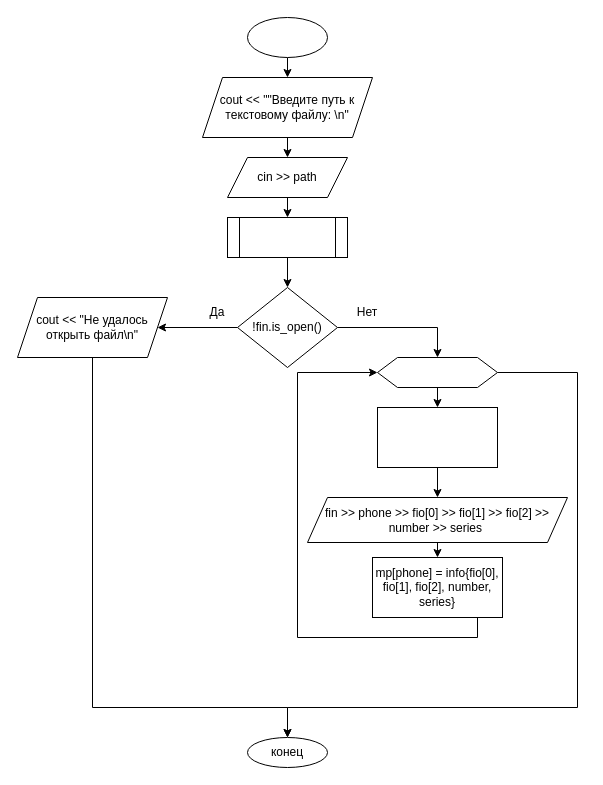
Image size: 603x785. Some labels were removed from this diagram. Here are the shapes that lost their labels. From the top down, the centre of each, then its label:
the point at 287,37: Начало
the point at 287,237: fin.open(path)
the point at 437,372: while(!fin.eof())
the point at 437,437: string phone string fio[3] int number, series
